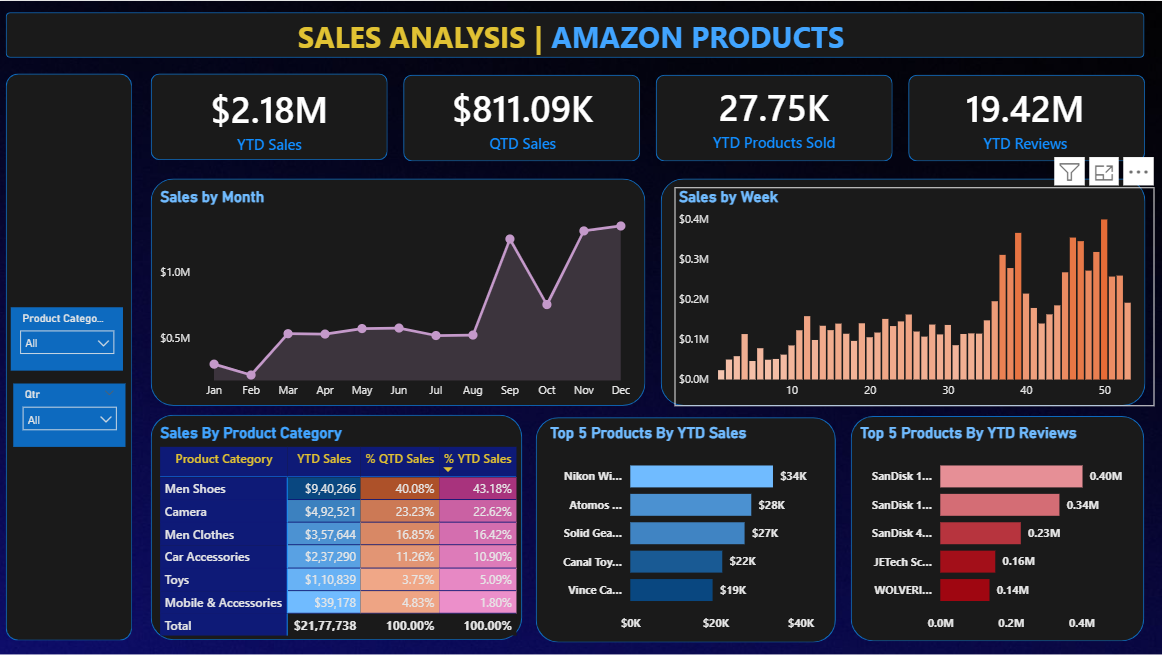

What the dashboard file says about the page in this screenshot:
{"tool":"powerbi","page":{"name":"Page 1","canvas":[1280,720],"ordinal":0},"visuals":[{"type":"shape","box":[10,12.5,1250,50],"z":0},{"type":"textbox","box":[325,12.5,630,56.2],"z":1000},{"type":"shape","box":[9.7,79.6,138.7,622.5],"z":2000},{"type":"shape","box":[168.8,80,260,95],"z":3000},{"type":"card","fields":{"Values":["Amazon_Data.YTD Sales"]},"box":[186.2,75,225,106.2],"z":4000},{"type":"shape","box":[445.8,81.2,260,95],"z":5000},{"type":"card","fields":{"Values":["Amazon_Data.QTD Sales"]},"box":[467.5,86.2,218.8,83.8],"z":6000},{"type":"shape","box":[722.9,81.2,260,95],"z":7000},{"type":"shape","box":[1000,81.2,260,95],"z":8000},{"type":"card","fields":{"Values":["Amazon_Data.Products Sold"]},"box":[743.8,85,218.8,83.8],"z":9000},{"type":"card","fields":{"Values":["Amazon_Data.YTD Reviews"]},"box":[1020,86.2,218.8,83.8],"z":10000},{"type":"shape","box":[168.9,195.4,542.9,249.7],"z":11000},{"type":"areaChart","title":"Sales by Month ","fields":{"Category":["Date Table.Month Name"],"Y":["Sum(Amazon_Data.Price(Dollar))"]},"box":[174.9,203.9,532,241.3],"z":12000},{"type":"shape","box":[728.7,195.4,532,249.7],"z":13000},{"type":"columnChart","title":"Sales by Week","fields":{"Y":["Sum(Amazon_Data.Price(Dollar))"],"Category":["Date Table.Week"]},"box":[743.2,203.9,527.2,241.3],"z":14000},{"type":"shape","box":[168.9,454.8,407.8,247.3],"z":15000},{"type":"pivotTable","title":"Sales By Product Category","fields":{"Rows":["Amazon_Data.Product Category"],"Values":["Amazon_Data.YTD Sales1","Amazon_Data.QTD Sales","Amazon_Data.YTD Sales"]},"box":[174.9,464.5,460.9,247.3],"z":16000},{"type":"shape","box":[591.2,457.2,329.4,247.3],"z":17000},{"type":"shape","box":[937.4,456,322.1,247.3],"z":18000},{"type":"clusteredBarChart","title":"Top 5 Products By YTD Sales","fields":{"Category":["Amazon_Data.Product Description"],"Y":["Amazon_Data.YTD Sales"]},"box":[602.4,463.8,318.4,237.4],"z":19000},{"type":"clusteredBarChart","title":"Top 5 Products By YTD Reviews","fields":{"Category":["Amazon_Data.Product Description"],"Y":["Amazon_Data.YTD Reviews"]},"box":[942.7,463.8,318.4,237.4],"z":20000},{"type":"slicer","fields":{"Values":["Amazon_Data.Product Category"]},"box":[15.1,336.2,123.5,70],"z":21000},{"type":"slicer","fields":{"Values":["Date Table.Qtr"]},"box":[17.8,419.9,123.5,70],"z":22000}]}

Visuals, with their boxes in screenshot pixels (x1, y1, x2, y2), scaled from the page's 1280x720 canvas onto the 1162x655 screenshot:
shape: (x1=9, y1=11, x2=1144, y2=57)
textbox: (x1=295, y1=11, x2=867, y2=62)
shape: (x1=9, y1=72, x2=135, y2=639)
shape: (x1=153, y1=73, x2=389, y2=159)
card - Amazon_Data.YTD Sales: (x1=169, y1=68, x2=373, y2=165)
shape: (x1=405, y1=74, x2=641, y2=160)
card - Amazon_Data.QTD Sales: (x1=424, y1=78, x2=623, y2=155)
shape: (x1=656, y1=74, x2=892, y2=160)
shape: (x1=908, y1=74, x2=1144, y2=160)
card - Amazon_Data.Products Sold: (x1=675, y1=77, x2=874, y2=154)
card - Amazon_Data.YTD Reviews: (x1=926, y1=78, x2=1125, y2=155)
shape: (x1=153, y1=178, x2=646, y2=405)
"Sales by Month " areaChart: (x1=159, y1=185, x2=642, y2=405)
shape: (x1=662, y1=178, x2=1144, y2=405)
"Sales by Week" columnChart: (x1=675, y1=185, x2=1153, y2=405)
shape: (x1=153, y1=414, x2=524, y2=639)
"Sales By Product Category" pivotTable: (x1=159, y1=423, x2=577, y2=648)
shape: (x1=537, y1=416, x2=836, y2=641)
shape: (x1=851, y1=415, x2=1143, y2=640)
"Top 5 Products By YTD Sales" clusteredBarChart: (x1=547, y1=422, x2=836, y2=638)
"Top 5 Products By YTD Reviews" clusteredBarChart: (x1=856, y1=422, x2=1145, y2=638)
slicer - Amazon_Data.Product Category: (x1=14, y1=306, x2=126, y2=370)
slicer - Date Table.Qtr: (x1=16, y1=382, x2=128, y2=446)
